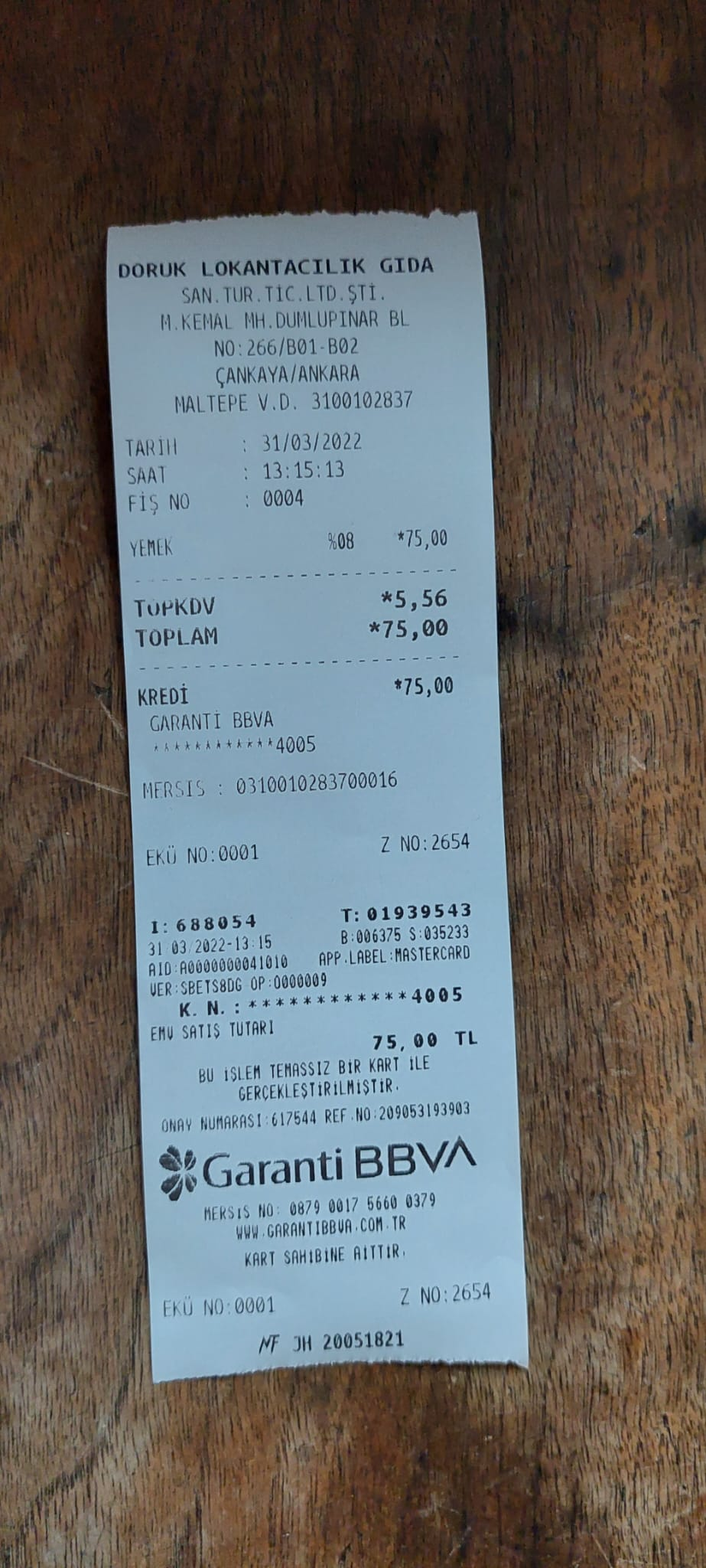date: (376, 611, 460, 645)
price: (251, 423, 366, 458)
workplace: (117, 248, 443, 392)
